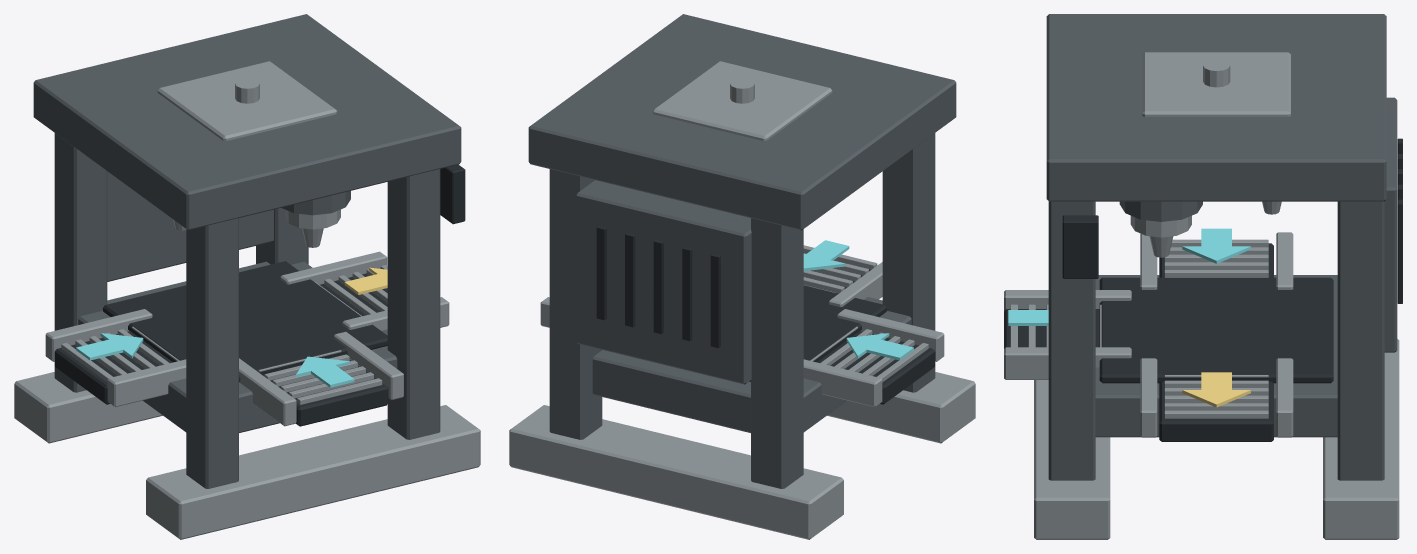
The model's file is assembler-mk1.glb.
3 views of the same model, side by side, from view 1: azimuth 30°, elevation 25°; view 2: azimuth 150°, elevation 25°; view 3: azimuth 270°, elevation 25° (orthographic). The views are drawn at different scales.
Visible parts, largest first — view 1: assembler-mk1 / Graphite enamel, assembler-mk1 / Machined steel, assembler-mk1 / Recesses and belt, assembler-mk1 / Cyan inlet markings, assembler-mk1 / Gold outlet markings; view 2: assembler-mk1 / Graphite enamel, assembler-mk1 / Machined steel, assembler-mk1 / Recesses and belt, assembler-mk1 / Cyan inlet markings; view 3: assembler-mk1 / Graphite enamel, assembler-mk1 / Machined steel, assembler-mk1 / Recesses and belt, assembler-mk1 / Cyan inlet markings, assembler-mk1 / Gold outlet markings.
Boxes of the visible parts, x1=… form: assembler-mk1 / Graphite enamel: x1=33, y1=14, x2=461, y2=488; assembler-mk1 / Machined steel: x1=14, y1=61, x2=480, y2=539; assembler-mk1 / Recesses and belt: x1=54, y1=164, x2=465, y2=426; assembler-mk1 / Cyan inlet markings: x1=76, y1=333, x2=354, y2=387; assembler-mk1 / Gold outlet markings: x1=344, y1=267, x2=387, y2=294; assembler-mk1 / Graphite enamel: x1=528, y1=14, x2=956, y2=488; assembler-mk1 / Machined steel: x1=509, y1=61, x2=975, y2=539; assembler-mk1 / Recesses and belt: x1=596, y1=226, x2=935, y2=404; assembler-mk1 / Cyan inlet markings: x1=803, y1=240, x2=913, y2=360; assembler-mk1 / Graphite enamel: x1=1046, y1=14, x2=1397, y2=480; assembler-mk1 / Machined steel: x1=1004, y1=52, x2=1399, y2=539; assembler-mk1 / Recesses and belt: x1=1004, y1=138, x2=1402, y2=441; assembler-mk1 / Cyan inlet markings: x1=1008, y1=228, x2=1250, y2=325; assembler-mk1 / Gold outlet markings: x1=1182, y1=372, x2=1250, y2=407.
Size of the model in its own units: 1 by 1.02 by 0.938.
